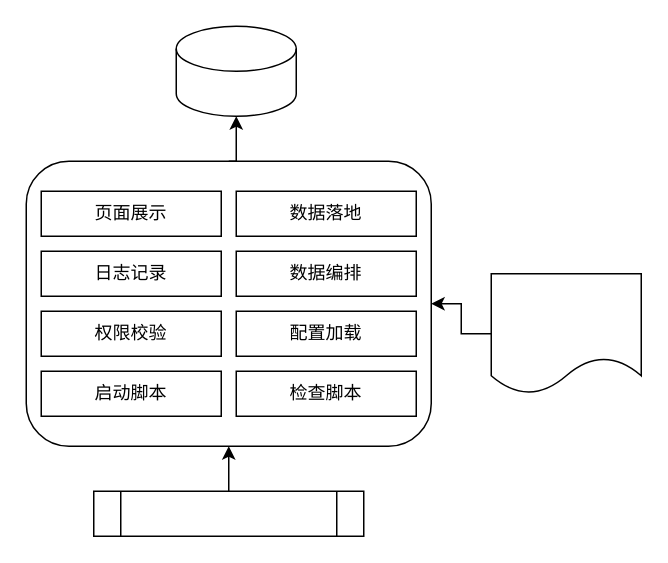
The diagram is 668 pixels wide and 563 high, and some of its shapes have lost their labels. The shapes that lost their labels are listed below. From the top down, each one's centre as x and y in pixels, then its label:
At (x=235, y=70): "Database".
At (x=565, y=333): "本地配置1 本地配置2".
At (x=228, y=513): "流平台kafka".
